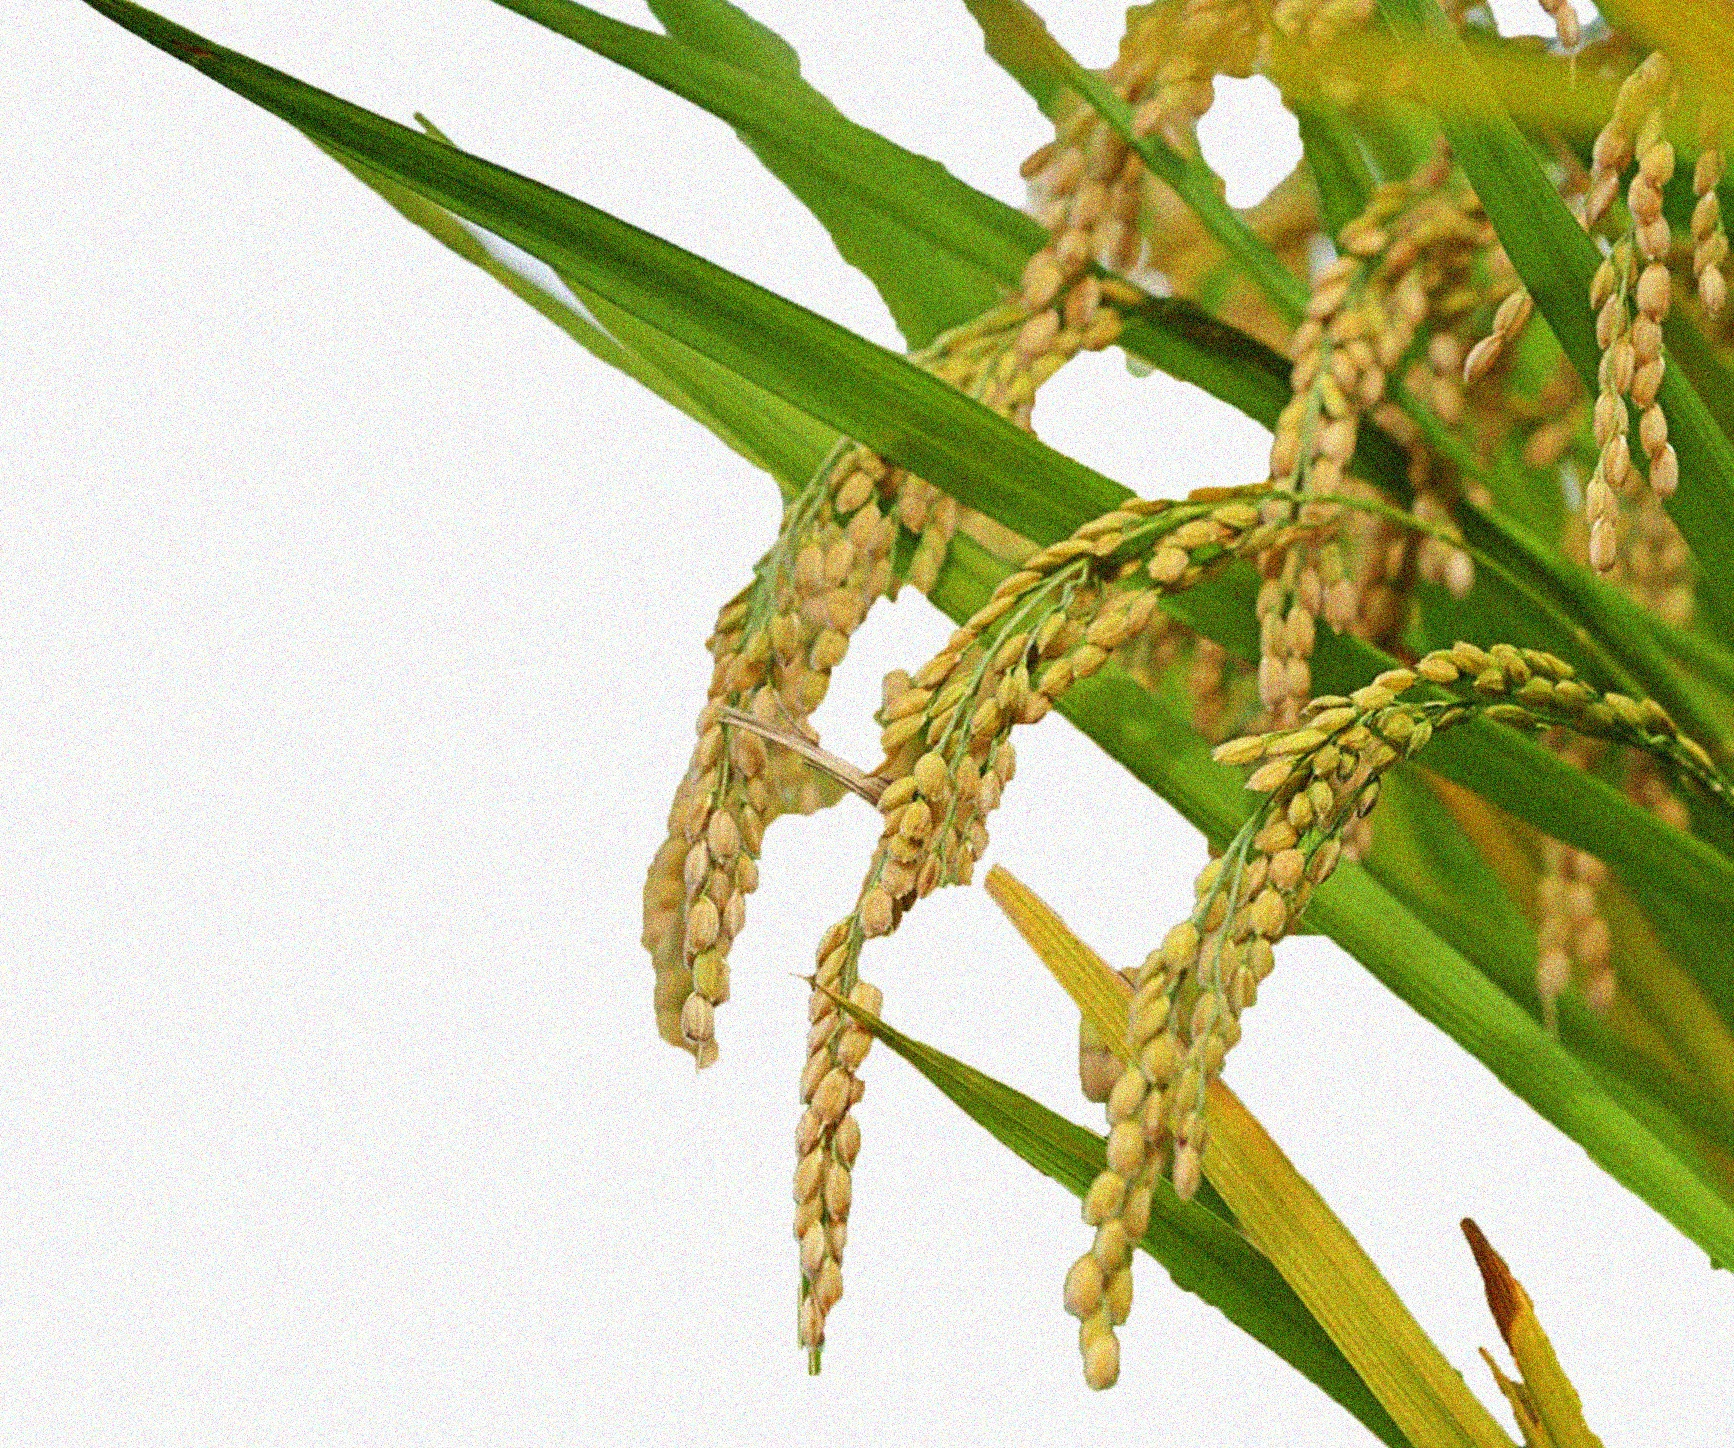rice: (814, 447, 1514, 1362), (1079, 637, 1665, 1415), (634, 271, 1064, 1052)
